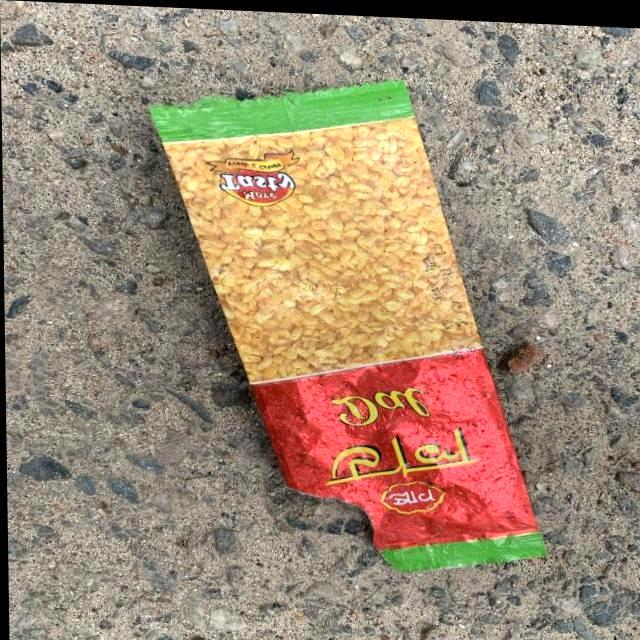packet: (233, 87, 503, 591)
